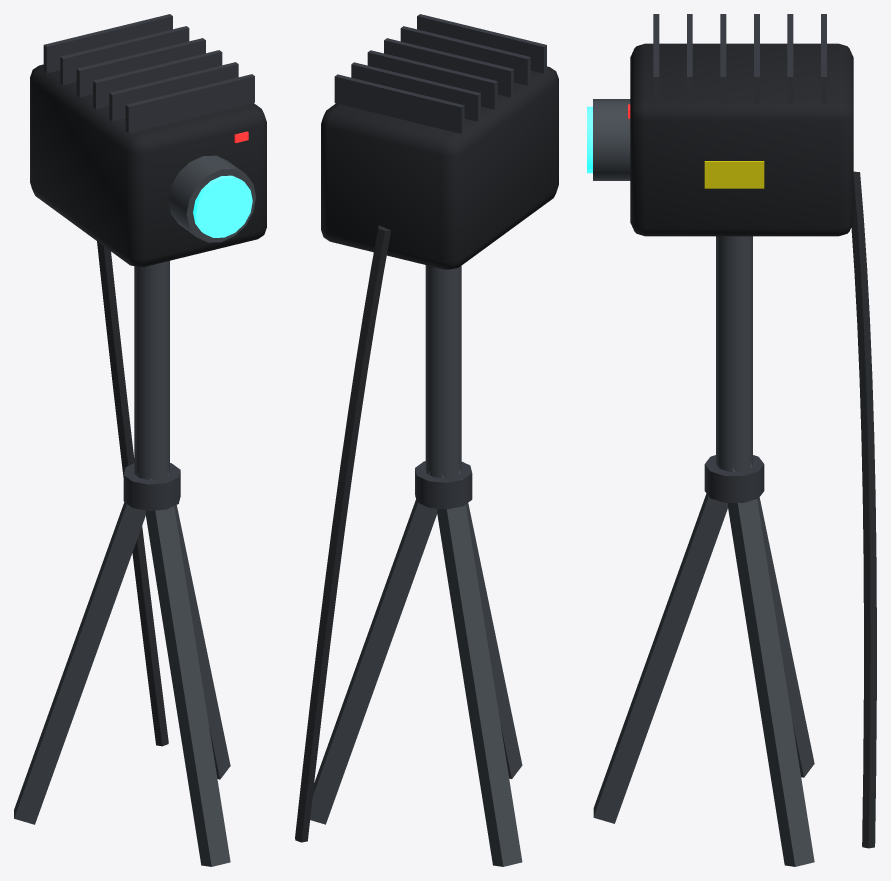
Rendered from emitter.glb.
The picture shows the model from 3 angles, left to right: view 1: azimuth 30°, elevation 25°; view 2: azimuth 150°, elevation 25°; view 3: azimuth 270°, elevation 25°; orthographic projection. The views are drawn at different scales.
Visible parts, largest first — view 1: Body; view 2: Body; view 3: Body.
Boxes of the visible parts, x1=… form: Body: x1=14, y1=14, x2=266, y2=866; Body: x1=295, y1=14, x2=558, y2=866; Body: x1=587, y1=14, x2=876, y2=866.
Bounding box in the file's own units: 0.3428 × 1.15 × 0.3892.
